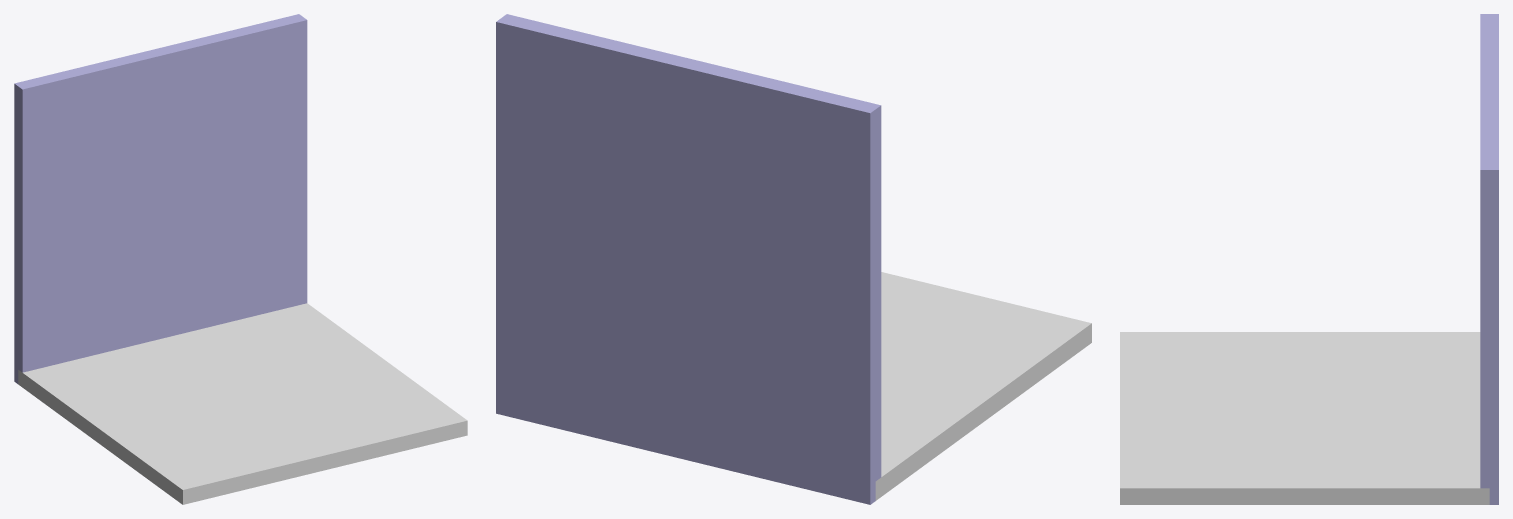
Rendered from WandFShip.fbx.
The picture shows the model from 3 angles, left to right: view 1: azimuth 30°, elevation 25°; view 2: azimuth 150°, elevation 25°; view 3: azimuth 270°, elevation 25°; orthographic projection. The views are drawn at different scales.
Parts seen in each view (by area): view 1: Wall_1, Plane, Wall_2; view 2: Wall_1, Plane, Wall_2; view 3: Plane, Wall_1, Wall_2.
Part boxes in pixels (x1=…): Wall_1: x1=14, y1=14, x2=307, y2=383; Plane: x1=18, y1=303, x2=467, y2=504; Wall_2: x1=14, y1=16, x2=307, y2=358; Wall_1: x1=496, y1=14, x2=881, y2=504; Plane: x1=875, y1=272, x2=1091, y2=500; Wall_2: x1=496, y1=14, x2=875, y2=503; Plane: x1=1120, y1=332, x2=1489, y2=504; Wall_1: x1=1480, y1=14, x2=1498, y2=504; Wall_2: x1=1480, y1=14, x2=1498, y2=295.
Bounding box in the file's own units: 200 × 200 × 205.
